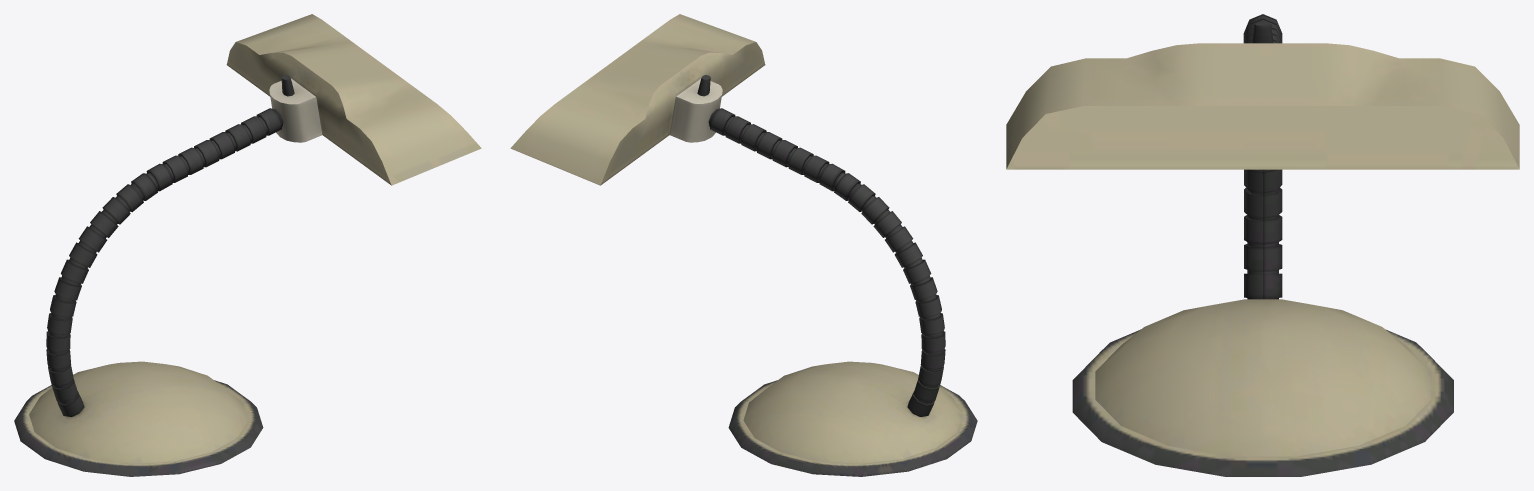
Rendered from lamp001.glb.
3 views of the same model, side by side, from view 1: azimuth 30°, elevation 25°; view 2: azimuth 150°, elevation 25°; view 3: azimuth 270°, elevation 25° (orthographic). The views are drawn at different scales.
Parts seen in each view (by area): view 1: lamp001; view 2: lamp001; view 3: lamp001.
Boxes of the visible parts, x1=… form: lamp001: x1=14, y1=14, x2=481, y2=476; lamp001: x1=510, y1=14, x2=977, y2=476; lamp001: x1=1006, y1=14, x2=1519, y2=476.
Bounding box in the file's own units: 0.4908 × 0.3985 × 0.3824.
1 material, 1 textured.
